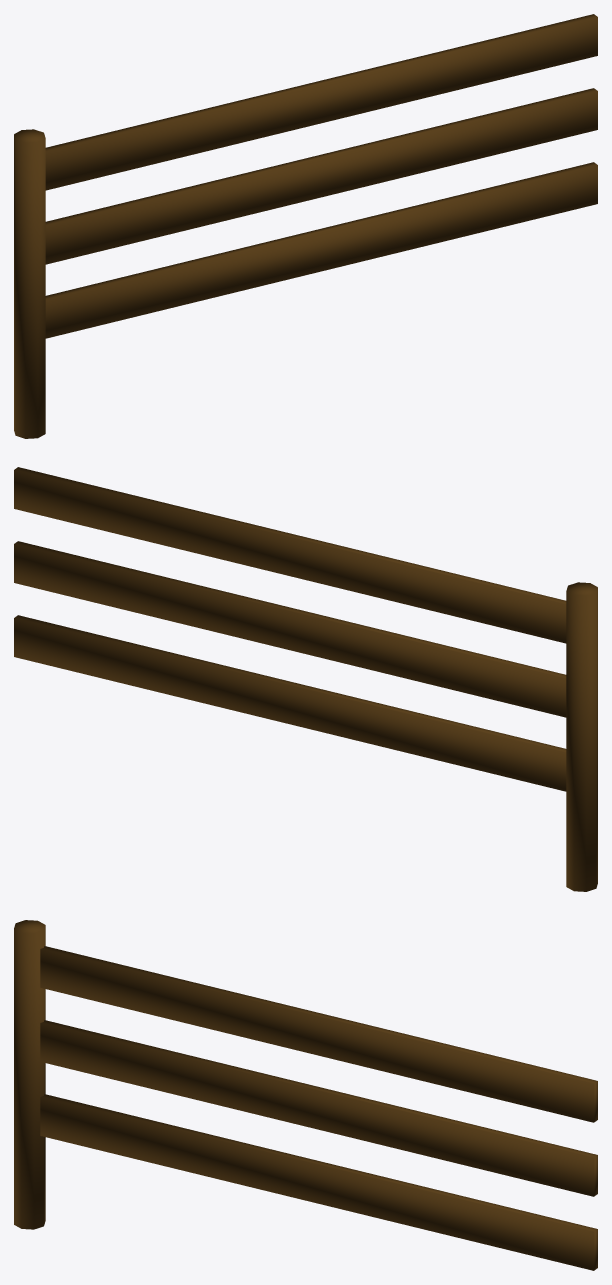
Rendered from fence_main.fbx.
The picture shows the model from 3 angles, top to bottom: view 1: azimuth 30°, elevation 25°; view 2: azimuth 150°, elevation 25°; view 3: azimuth 330°, elevation 25°; orthographic projection.
Visible parts, largest first — view 1: fence_main; view 2: fence_main; view 3: fence_main.
Part boxes in pixels (box(x1,y1,x2,y2)): fence_main: box(14, 14, 597, 438); fence_main: box(14, 467, 597, 891); fence_main: box(14, 920, 597, 1270).
Size of the model in its own units: 615 by 300 by 30.
